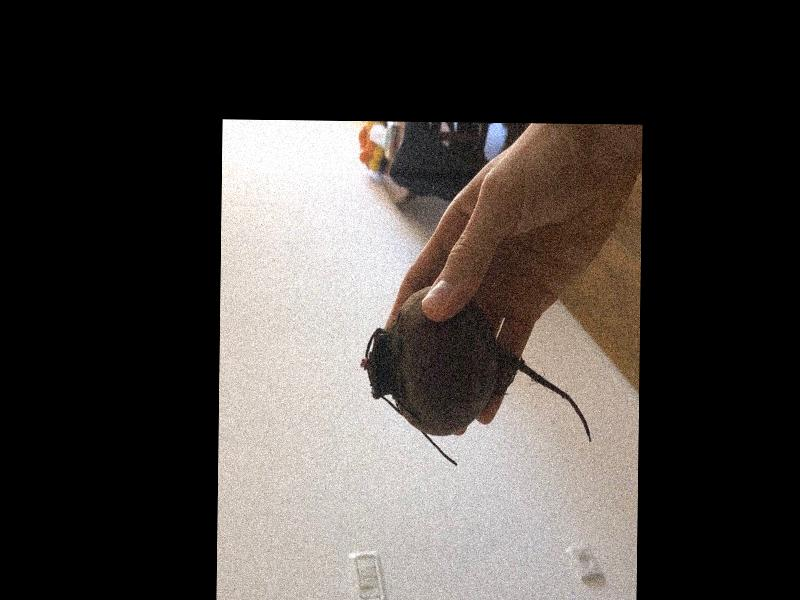Beet: (359, 284, 593, 469)
